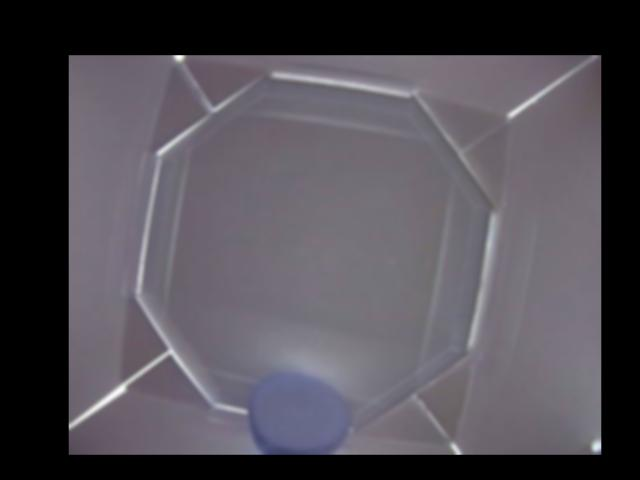Mooli: (247, 372, 347, 454)
